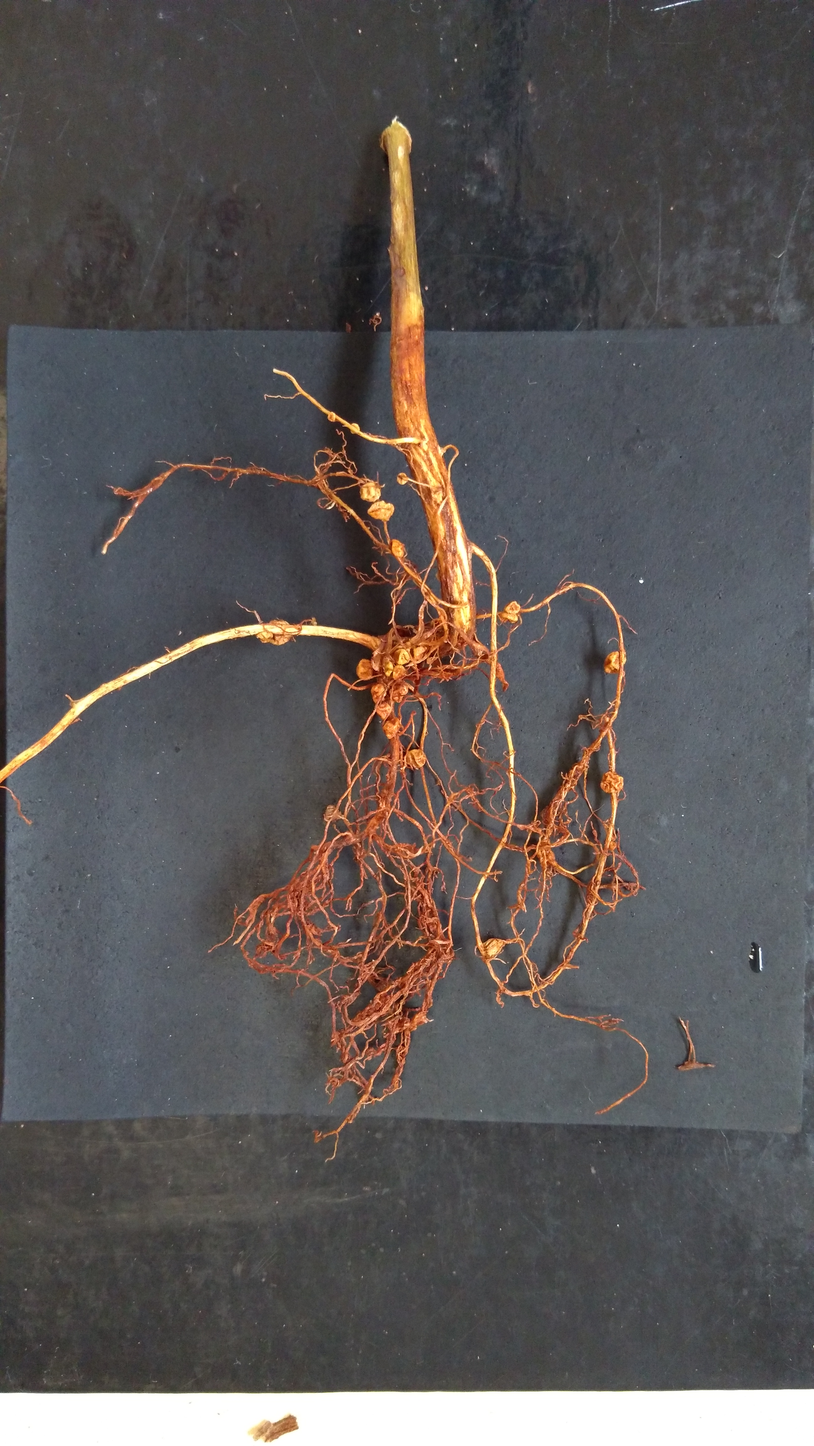nodule: (255, 618, 294, 647), (601, 648, 627, 676), (366, 499, 396, 522), (599, 769, 625, 794), (482, 936, 507, 960), (385, 1013, 412, 1034), (358, 481, 382, 503), (354, 657, 375, 682), (405, 748, 428, 769), (381, 716, 401, 740), (369, 683, 387, 705), (390, 538, 406, 560), (392, 647, 410, 666), (375, 701, 392, 721), (389, 683, 404, 703), (503, 600, 522, 615), (498, 611, 518, 623), (392, 663, 406, 680), (384, 660, 394, 677), (396, 472, 409, 485), (349, 422, 361, 435), (398, 681, 409, 695), (413, 646, 425, 657), (326, 410, 336, 423)
